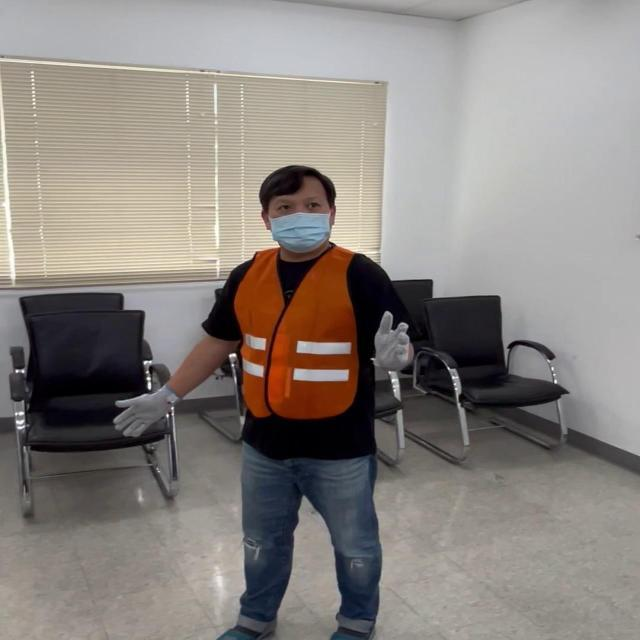gloved_hand: (114, 382, 172, 435), (372, 314, 410, 374)
